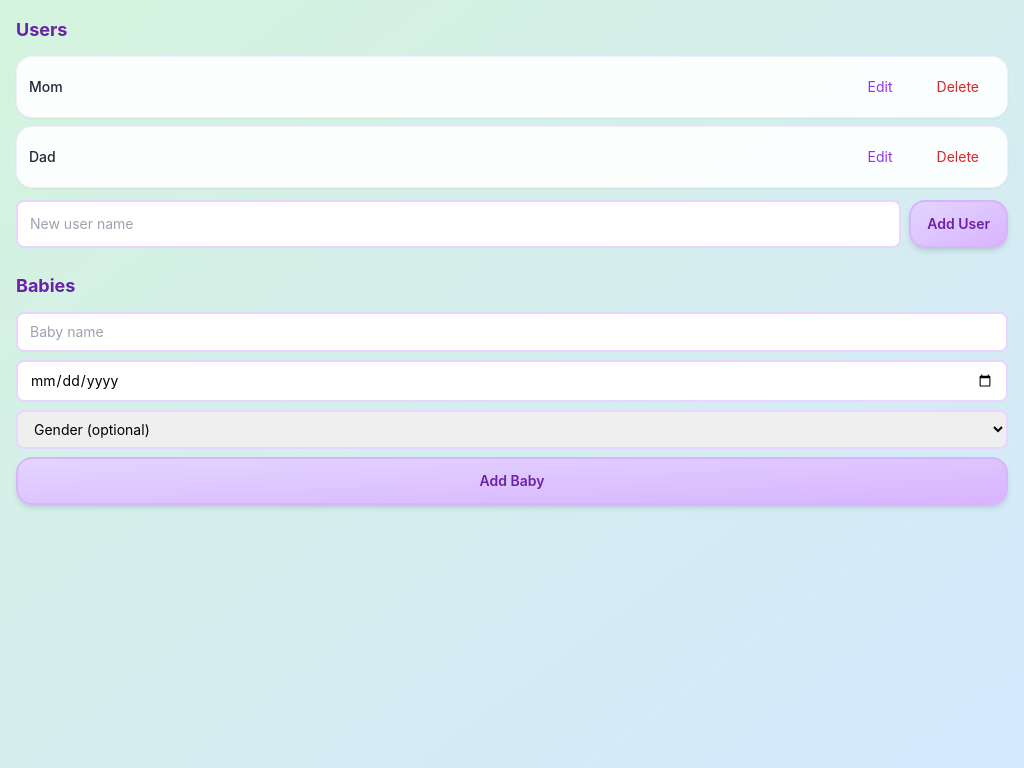
Admin — delete user › shows confirmation dialog when Delete is clicked
Step 1. Click the button with aria-label "Delete Mom" → (958, 87), box [921,69,995,105]
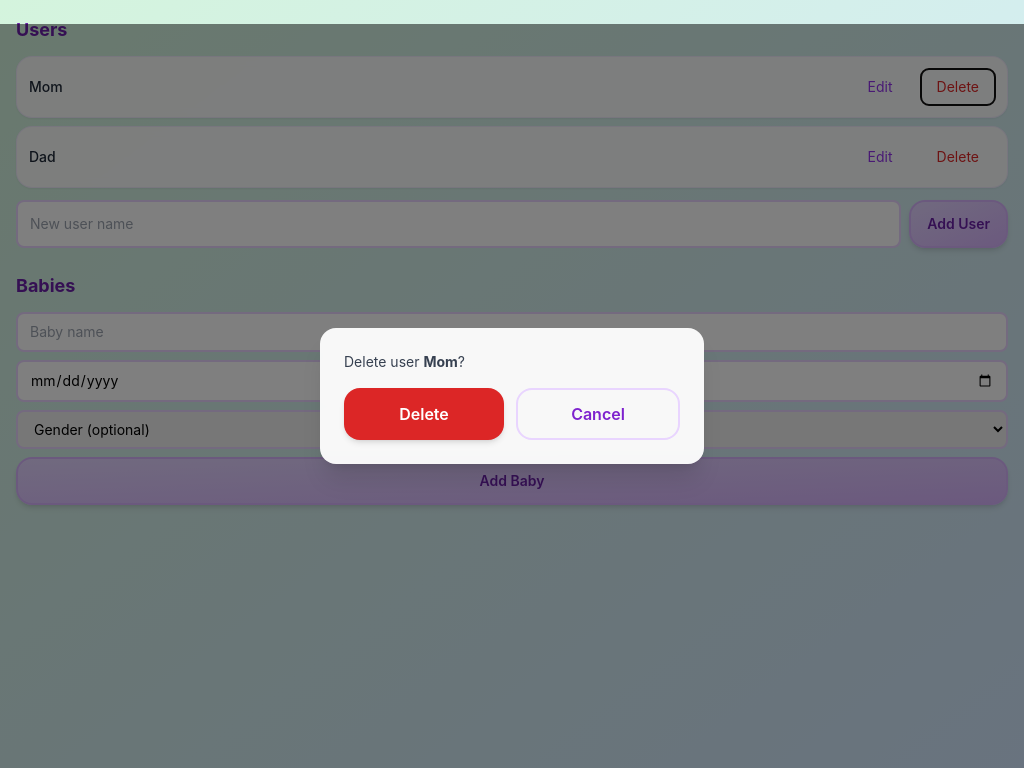
Check: the element with class "fixed" is shown
Check: the text "Mom" is shown, box [423,353,458,370]
Check: the button "Delete" is shown, box [344,388,504,440]
